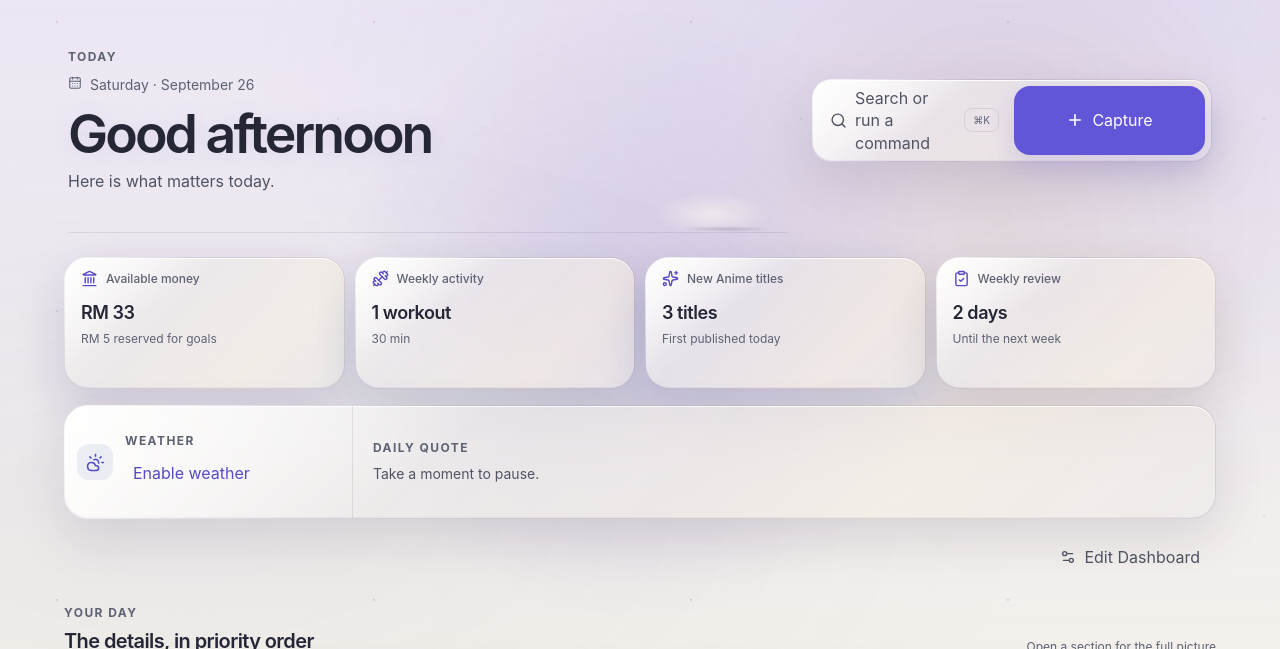
Today V2 › changes layout only in explicit edit mode and can reset the UID-local preference
Step 1. Click the button "Edit Dashboard" → (1130, 557), box [1044, 535, 1216, 579]
(page scrolled)
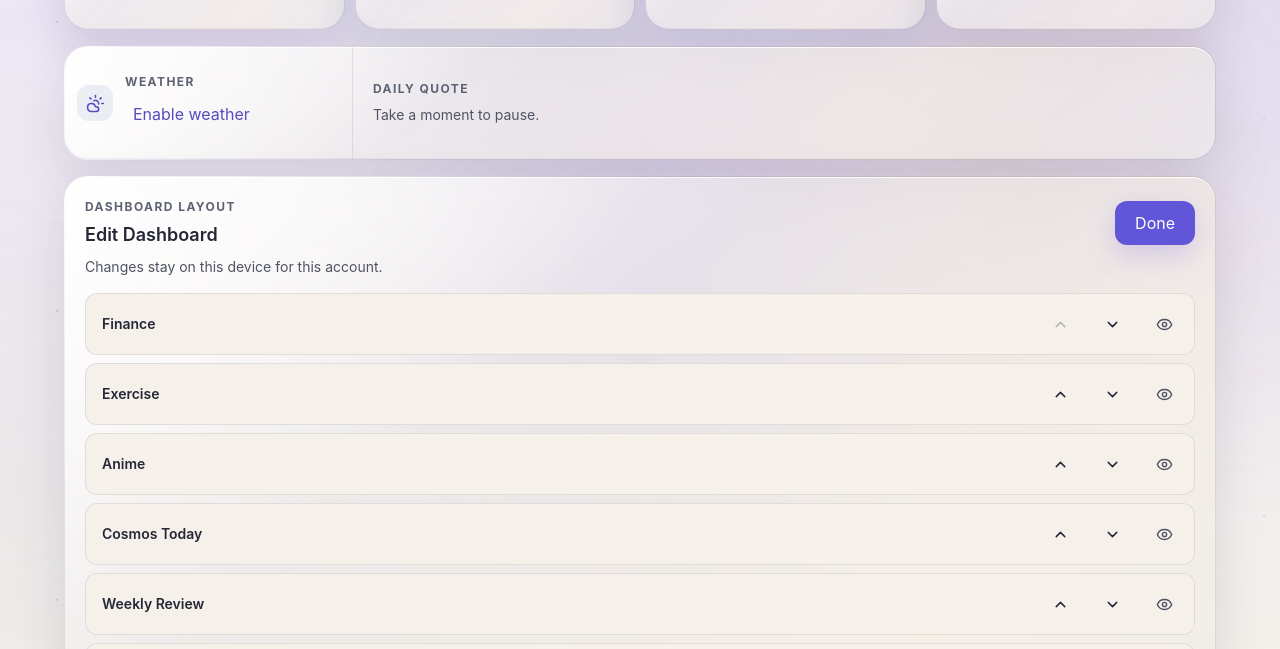
Step 2. Click the button named "Hide Finance" → (1164, 324), box [1142, 302, 1186, 346]
(page scrolled)
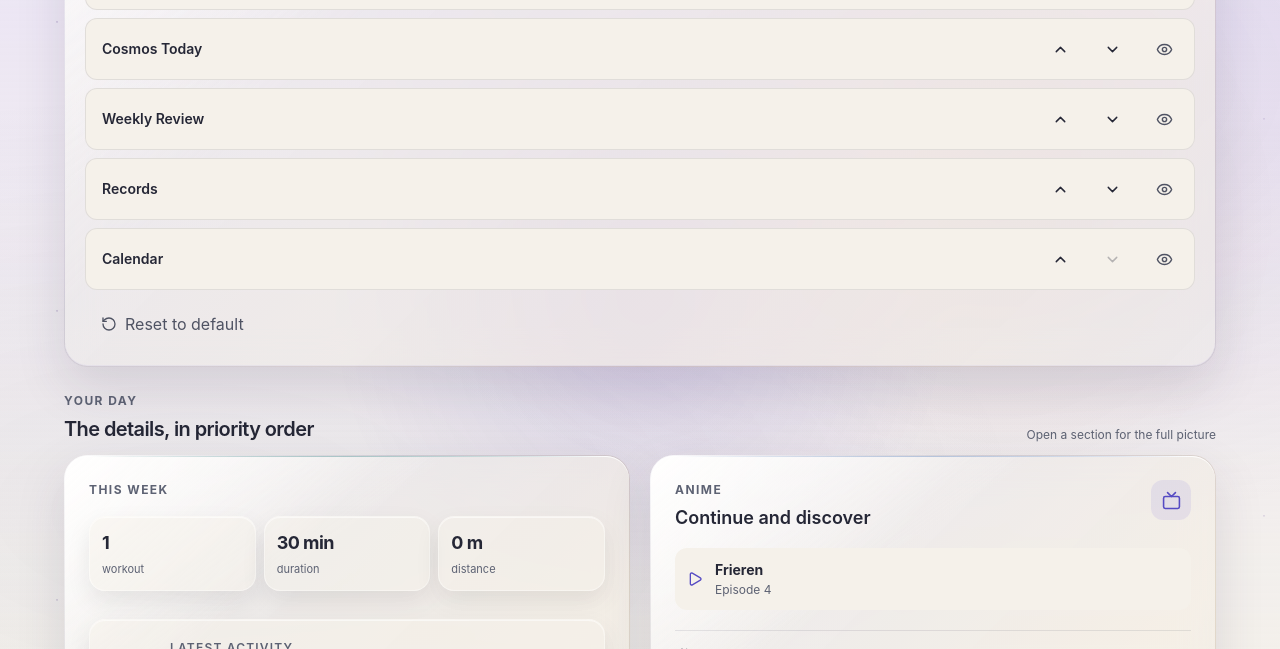
Expected: the button "Open Finance" is not shown
Step 3. Click the button "Reset to default" → (172, 324), box [85, 302, 260, 346]
(page scrolled)
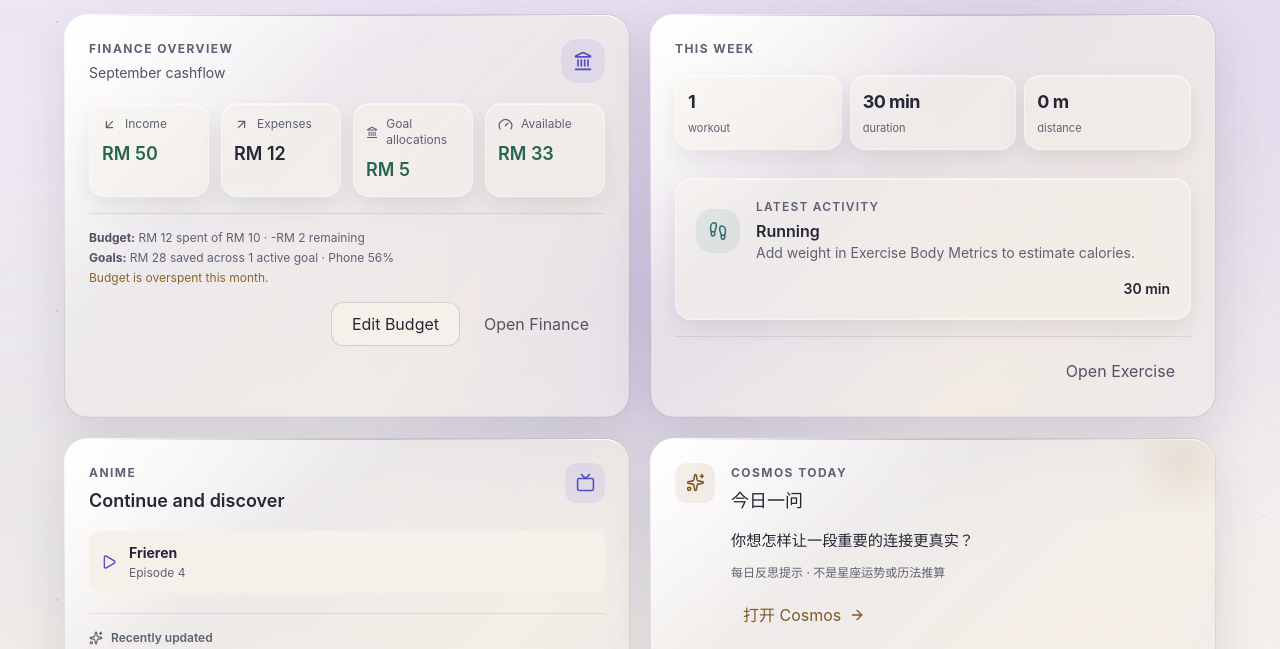
Expected: the button "Open Finance" is shown, [468, 302, 605, 346]
